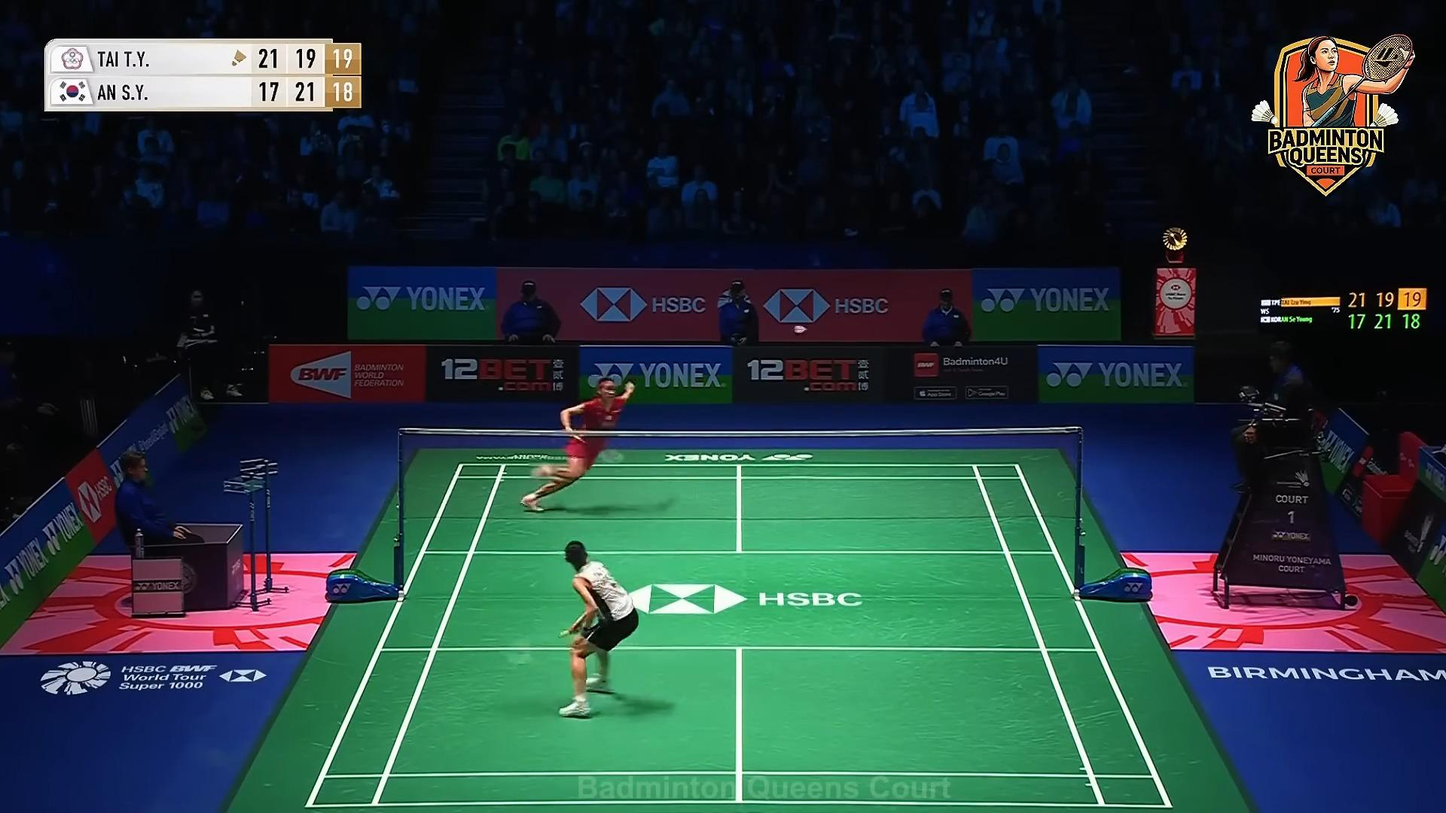player: (523, 377, 635, 515), (557, 540, 639, 719)
shuttlecock: (793, 323, 806, 335)
